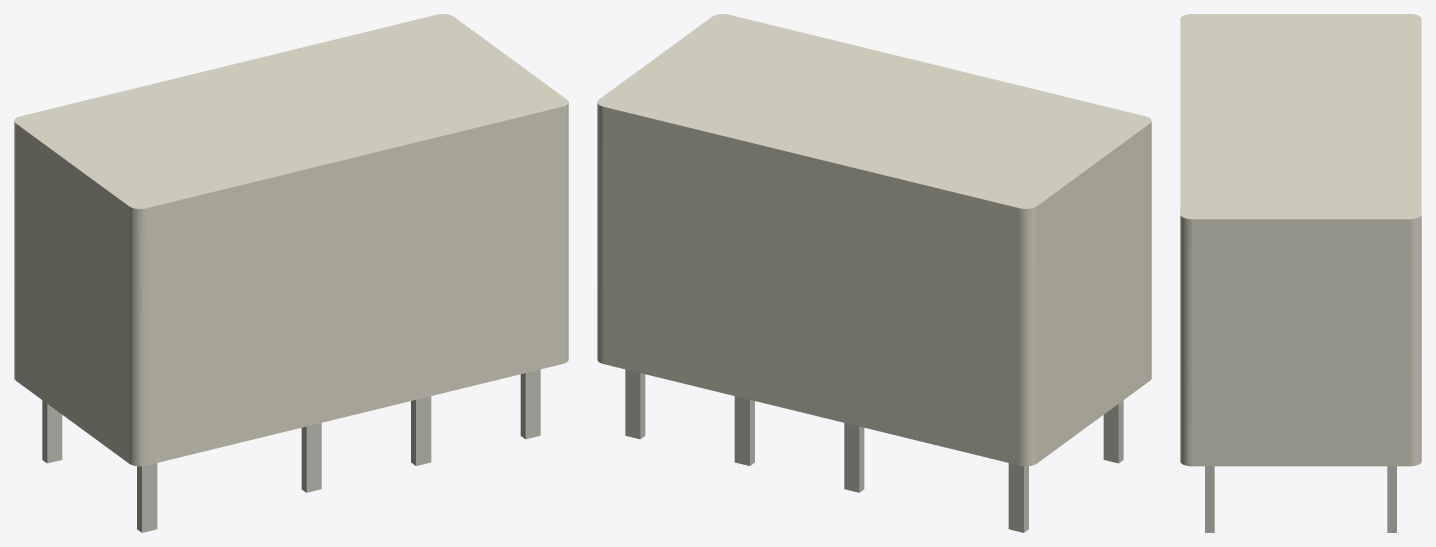
Rendered from kc-relay_dpdt_finder_30.22.glb.
3 renders of one model, left to right at view 1: azimuth 30°, elevation 25°; view 2: azimuth 150°, elevation 25°; view 3: azimuth 270°, elevation 25°, orthographic. The views are drawn at different scales.
Parts seen in each view (by area): view 1: 0.75_0.75_0.6666666666666666_0, 0.6666666666666666_0.6666666666666666_0.5833333333333334_0.8; view 2: 0.75_0.75_0.6666666666666666_0, 0.6666666666666666_0.6666666666666666_0.5833333333333334_0.8; view 3: 0.75_0.75_0.6666666666666666_0, 0.6666666666666666_0.6666666666666666_0.5833333333333334_0.8.
Boxes of the visible parts, x1,y1,x2,y2 form: 0.75_0.75_0.6666666666666666_0: (14,14,568,466); 0.6666666666666666_0.6666666666666666_0.5833333333333334_0.8: (42,369,540,532); 0.75_0.75_0.6666666666666666_0: (597,14,1151,466); 0.6666666666666666_0.6666666666666666_0.5833333333333334_0.8: (625,369,1123,532); 0.75_0.75_0.6666666666666666_0: (1180,14,1421,466); 0.6666666666666666_0.6666666666666666_0.5833333333333334_0.8: (1205,466,1396,532).
Size of the model in its own units: 2.03 by 1.49 by 1.01.
